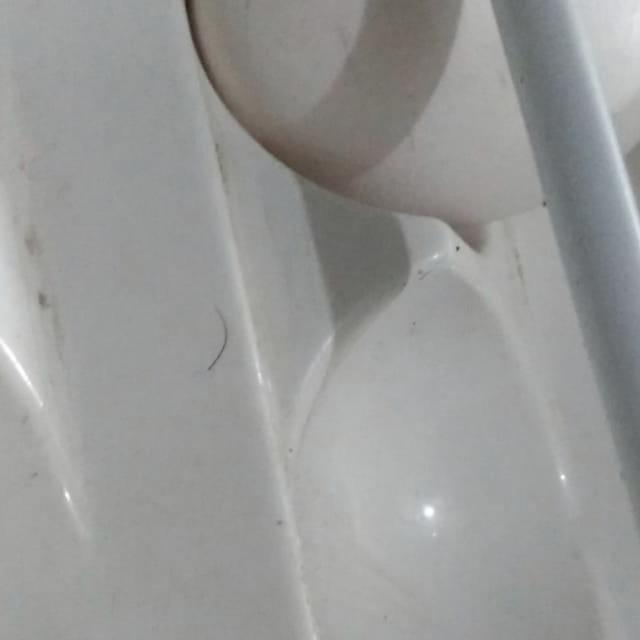egg: (173, 0, 640, 204)
